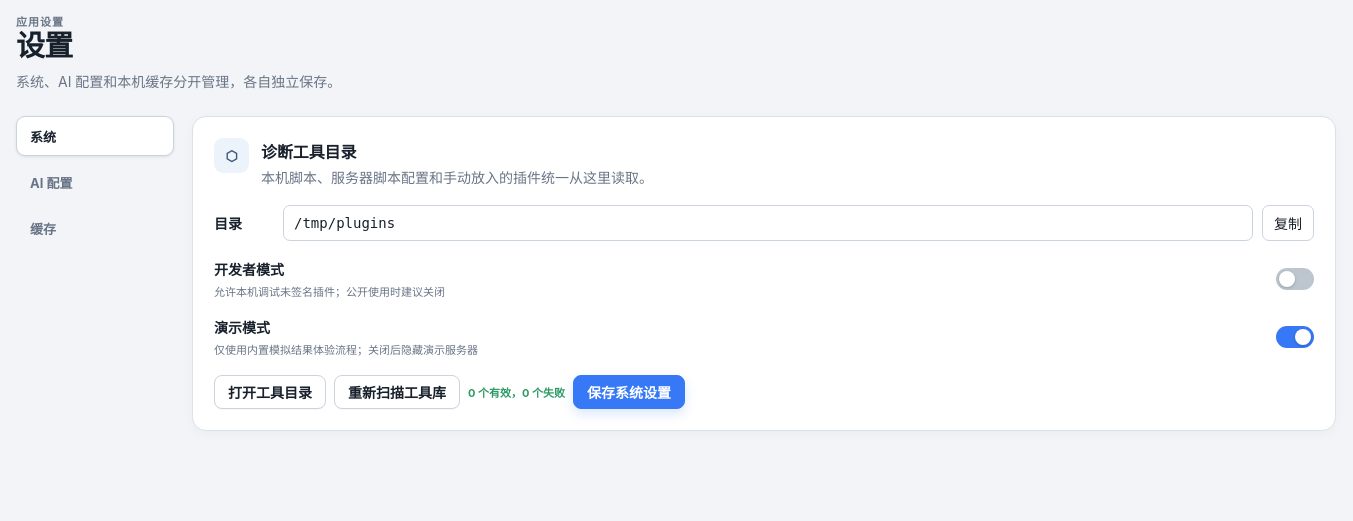
Test: App › falls back to custom provider when the endpoint does not match any preset
Click the button "AI 配置". click: x=95, y=182
box: [16,162,174,202]
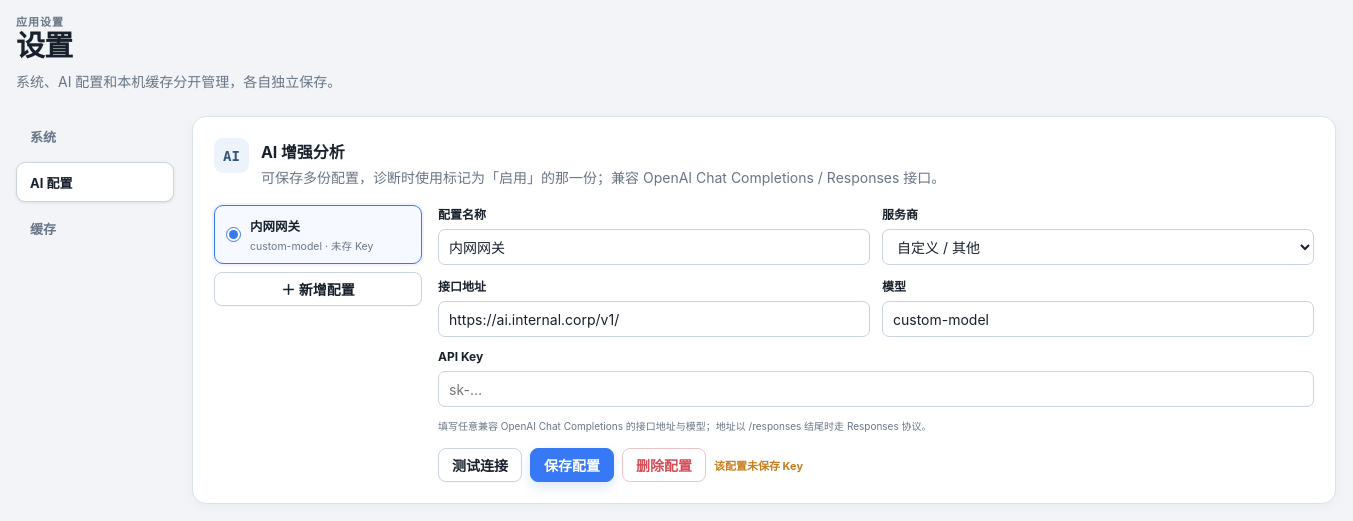
Expected: the dropdown labelled "服务商" shows "自定义 / 其他", [882,229,1314,265]
